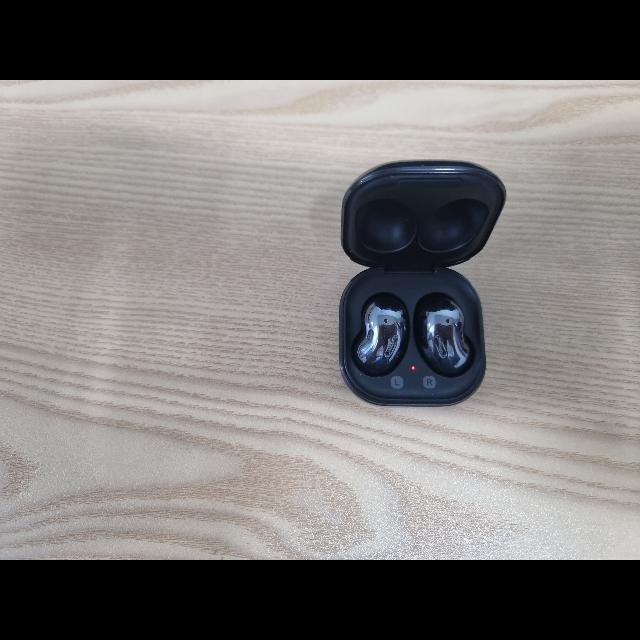buds_live: (339, 156, 507, 408)
